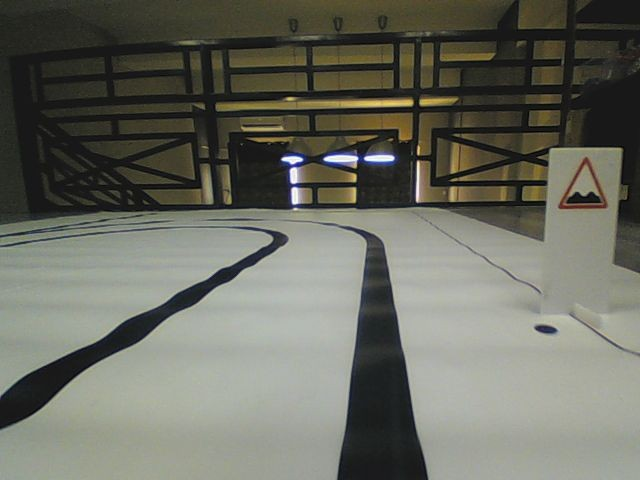Nerov: (557, 156, 610, 211)
